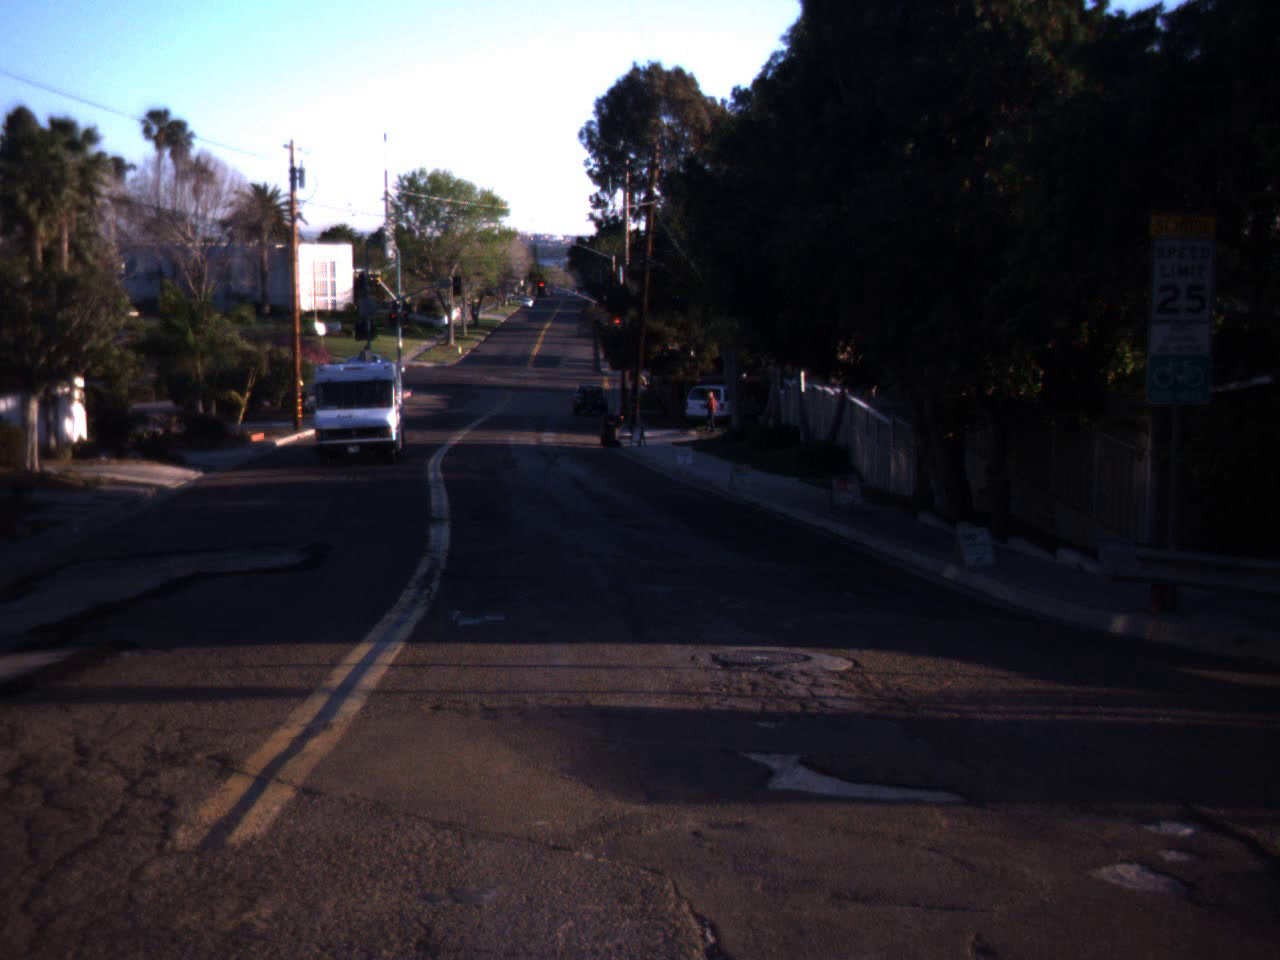stop: (387, 310, 399, 332)
